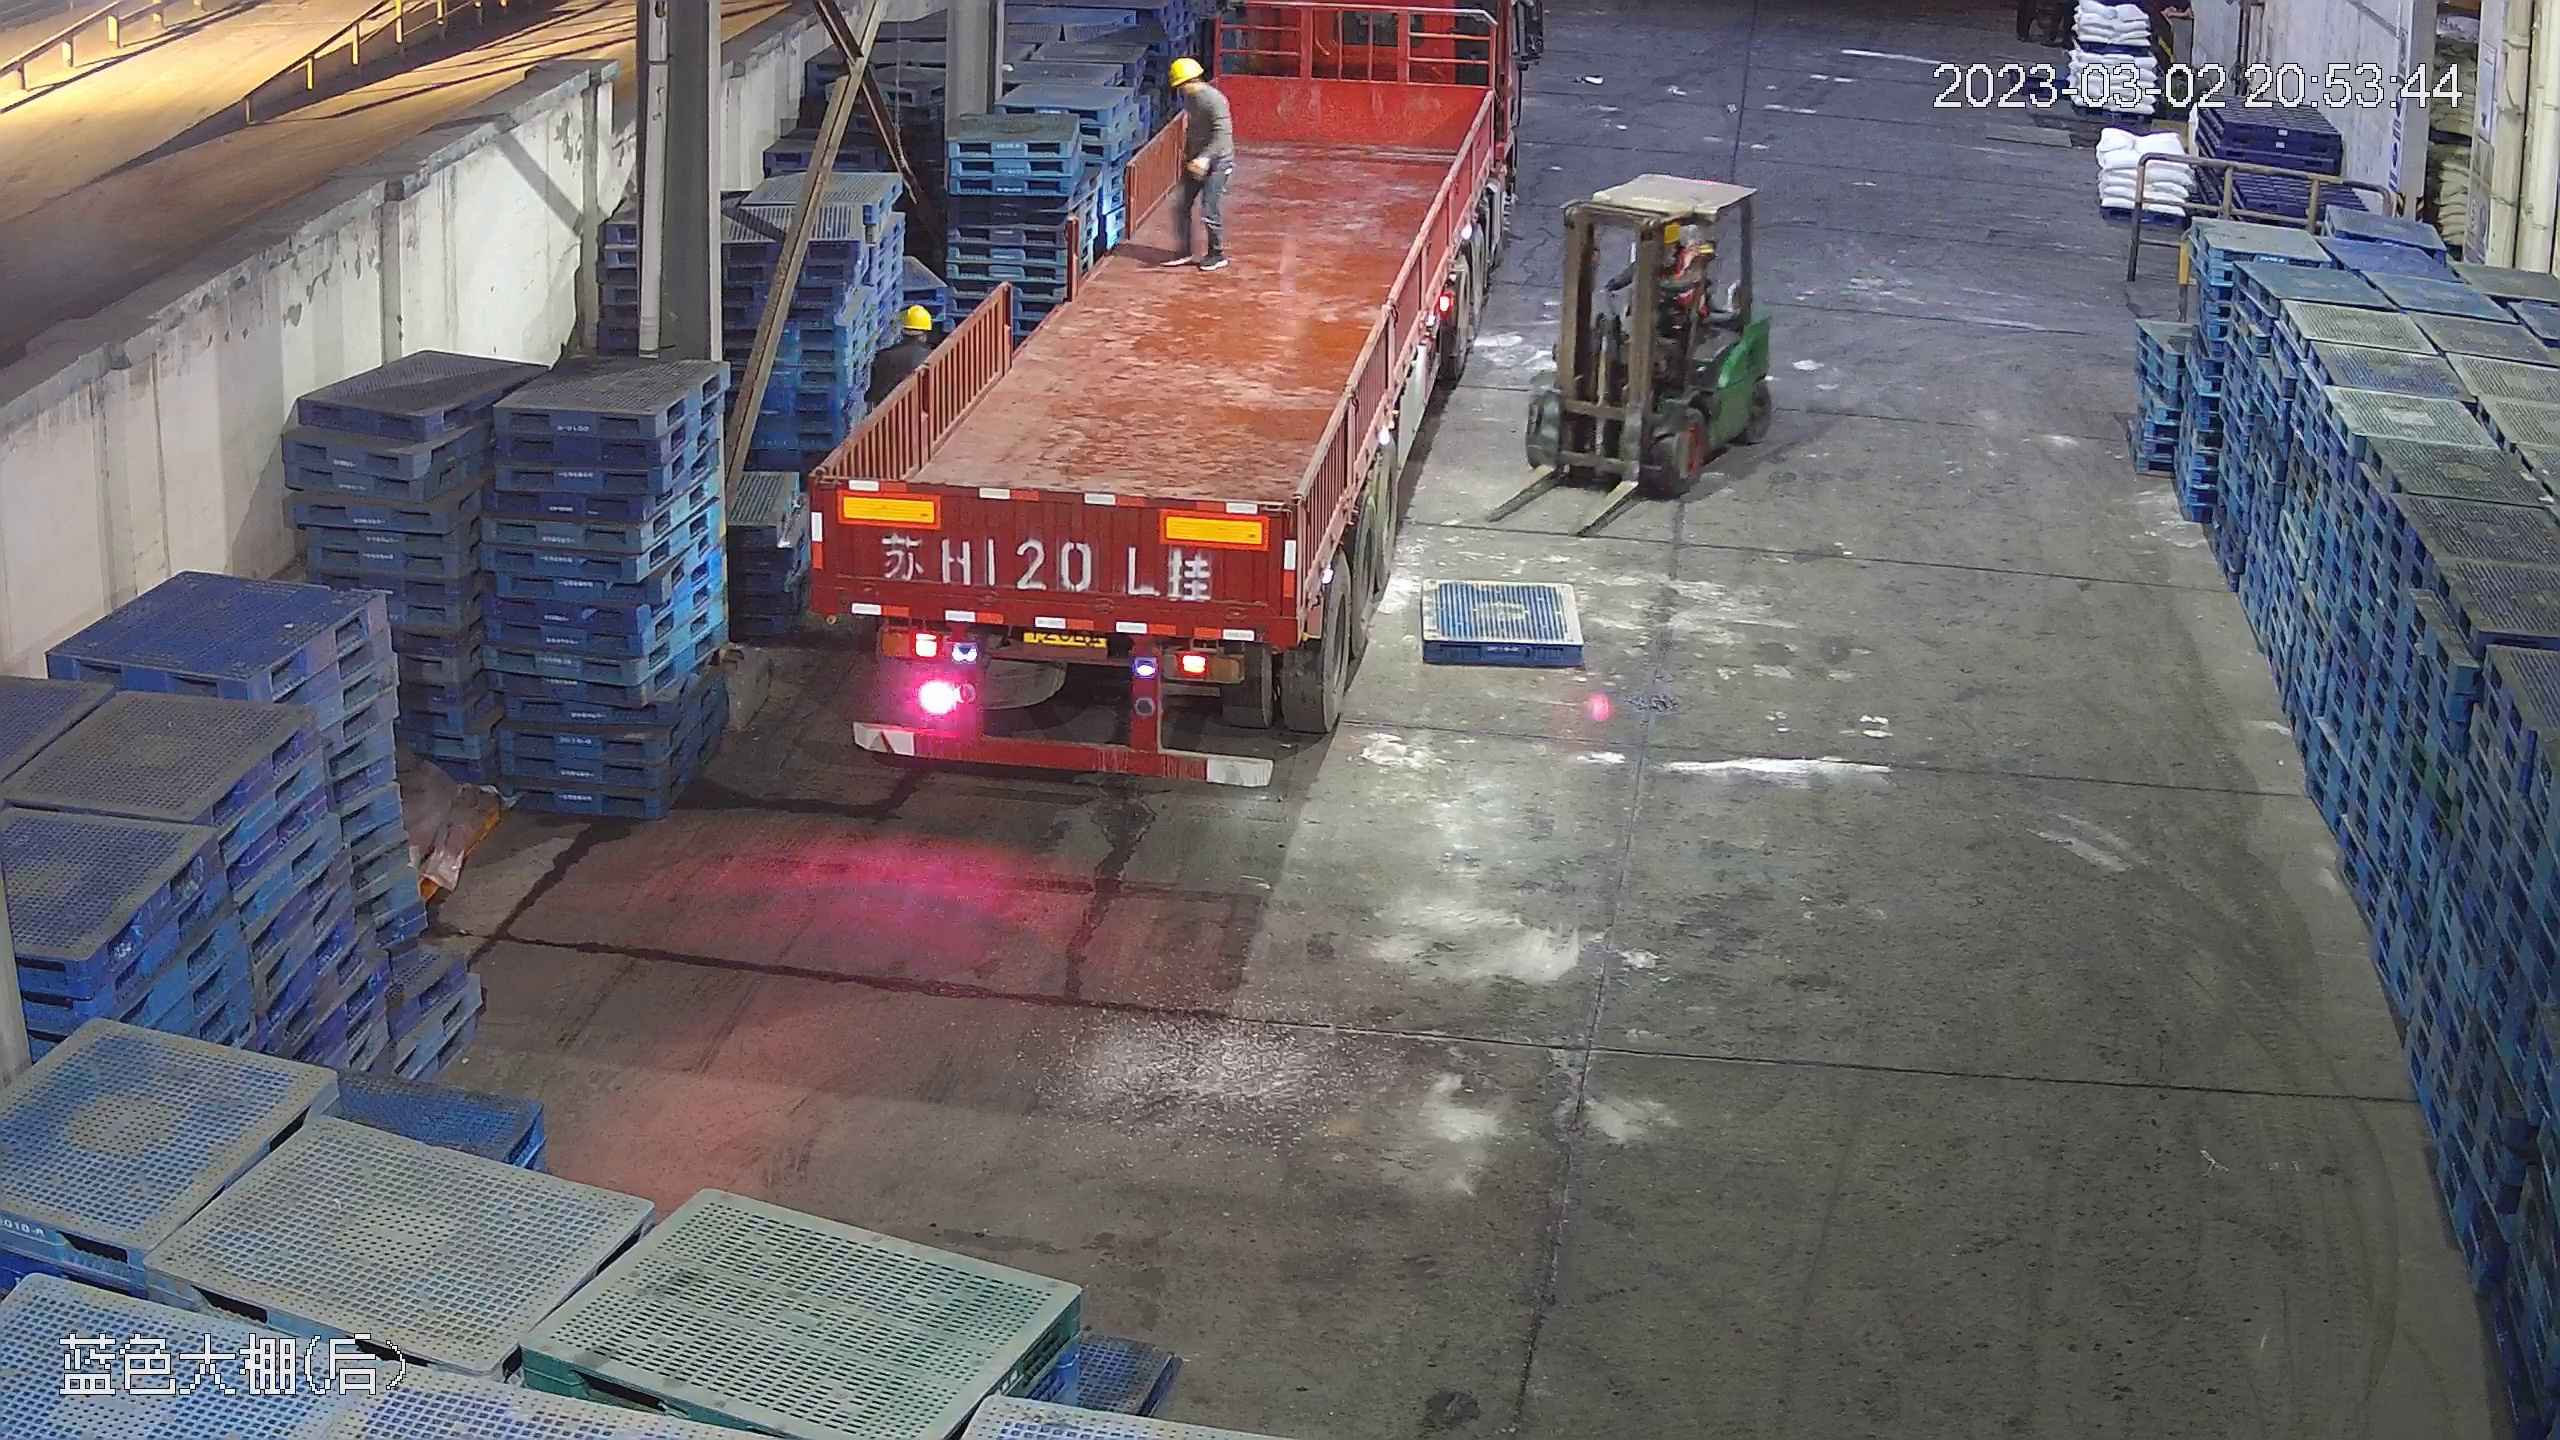head: (870, 301, 941, 379), (1160, 57, 1227, 118)
helmet: (898, 302, 934, 332), (1165, 57, 1196, 85)
people: (1163, 54, 1231, 268)
truck: (811, 1, 1519, 777)
